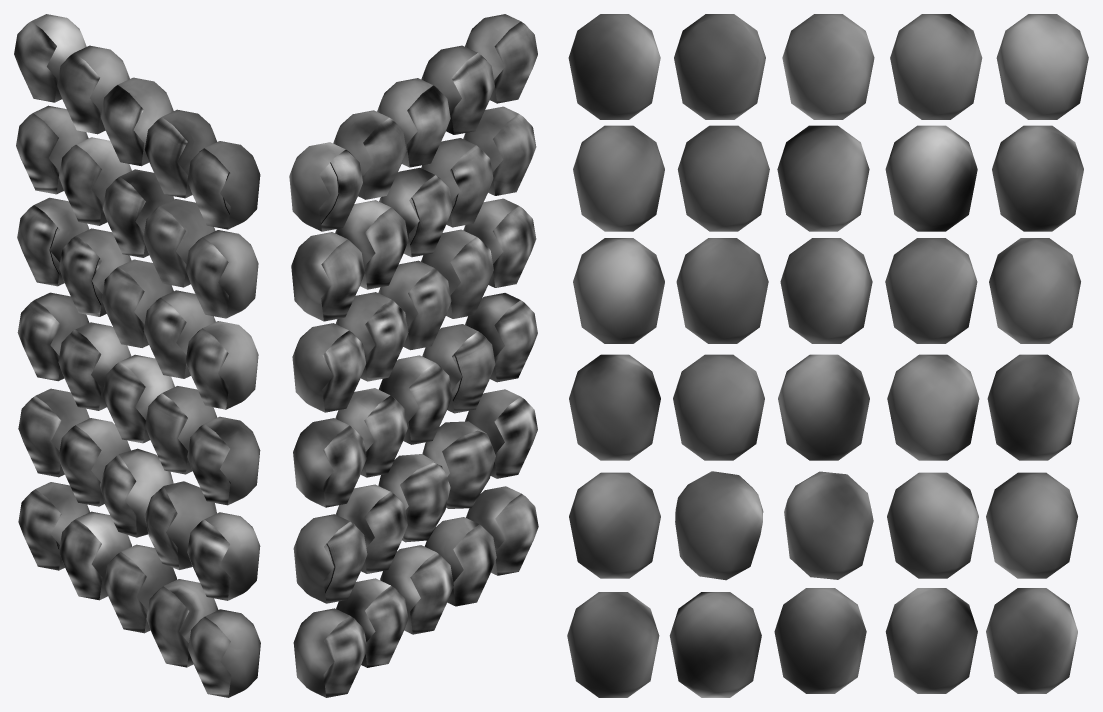
File: npc heads test.fbx
3 renders of one model, left to right at view 1: azimuth 30°, elevation 25°; view 2: azimuth 150°, elevation 25°; view 3: azimuth 270°, elevation 25°, orthographic. The views are drawn at different scales.
Visible parts, largest first — view 1: Icosphere.009, Icosphere.019, Icosphere.020, Icosphere.029, Icosphere.010, Icosphere, Icosphere.007, Icosphere.027, Icosphere.026, Icosphere.003, Icosphere.013, Icosphere.025 (+18 smaller); view 2: Icosphere.005, Icosphere.015, Icosphere.025, Icosphere.004, Icosphere.014, Icosphere.024, Icosphere.002, Icosphere.028, Icosphere.027, Icosphere.008, Icosphere.012, Icosphere.026 (+18 smaller); view 3: Icosphere.020, Icosphere.023, Icosphere.024, Icosphere.011, Icosphere.013, Icosphere.014, Icosphere.005, Icosphere.006, Icosphere.009, Icosphere.012, Icosphere.010, Icosphere.021 (+18 smaller).
Boxes of the visible parts, x1,y1,x2,y2 form: Icosphere.009: [187, 512, 260, 600]; Icosphere.019: [185, 321, 258, 409]; Icosphere.020: [185, 230, 258, 318]; Icosphere.029: [187, 141, 260, 229]; Icosphere.010: [187, 416, 260, 505]; Icosphere: [188, 609, 260, 697]; Icosphere.007: [100, 448, 173, 537]; Icosphere.027: [101, 77, 173, 166]; Icosphere.026: [57, 45, 129, 134]; Icosphere.003: [59, 511, 131, 600]; Icosphere.013: [58, 322, 131, 410]; Icosphere.025: [14, 14, 86, 102]; Icosphere.005: [293, 514, 367, 603]; Icosphere.015: [292, 323, 365, 412]; Icosphere.025: [289, 142, 362, 231]; Icosphere.004: [293, 608, 367, 697]; Icosphere.014: [293, 418, 366, 507]; Icosphere.024: [291, 232, 364, 321]; Icosphere.002: [380, 545, 453, 634]; Icosphere.028: [421, 45, 494, 134]; Icosphere.027: [377, 78, 450, 167]; Icosphere.008: [422, 421, 495, 508]; Icosphere.012: [378, 355, 452, 444]; Icosphere.026: [333, 110, 406, 199]; Icosphere.020: [573, 125, 664, 231]; Icosphere.023: [885, 125, 977, 231]; Icosphere.024: [992, 125, 1083, 231]; Icosphere.011: [673, 354, 764, 460]; Icosphere.013: [887, 354, 979, 460]; Icosphere.014: [987, 354, 1079, 460]; Icosphere.005: [986, 472, 1077, 578]; Icosphere.006: [887, 472, 978, 578]; Icosphere.009: [569, 472, 660, 578]; Icosphere.012: [778, 354, 869, 460]; Icosphere.010: [569, 354, 660, 460]; Icosphere.021: [677, 125, 769, 231].
Bounding box in the file's own units: 200 × 1627 × 1131.
